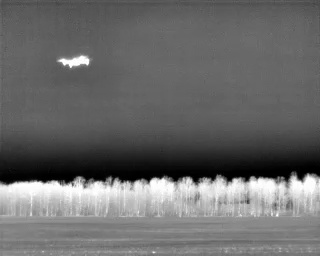DRONE: (53, 50, 96, 73)
